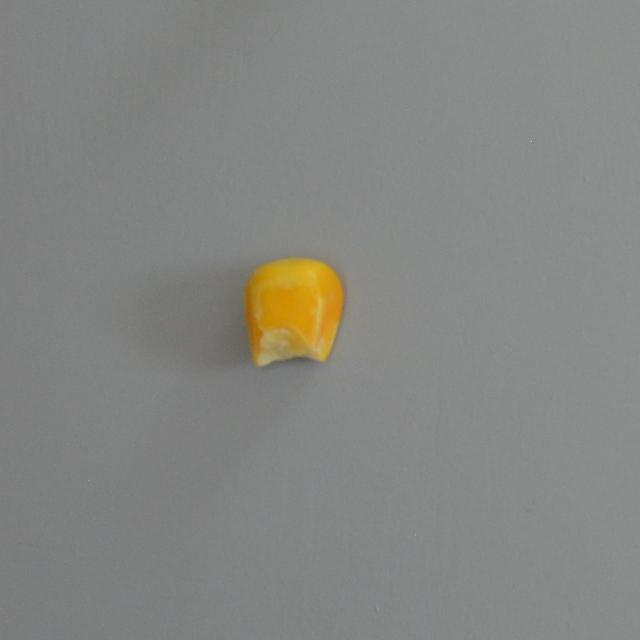dañado: (240, 252, 347, 372)
